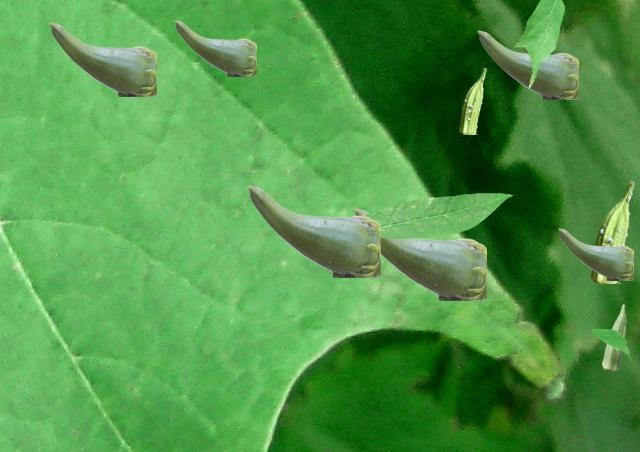okra: (353, 208, 485, 299), (247, 185, 379, 276), (49, 22, 155, 95), (477, 30, 577, 98), (174, 20, 255, 75), (591, 181, 633, 282), (558, 228, 632, 279), (459, 68, 485, 133), (602, 304, 625, 369)
